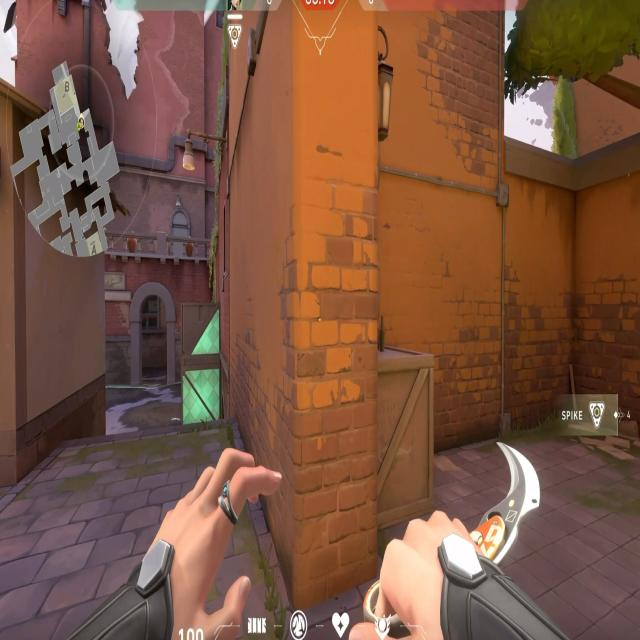B_Boathouse: (123, 274, 181, 399)
B_Site_Box: (175, 298, 224, 432)
